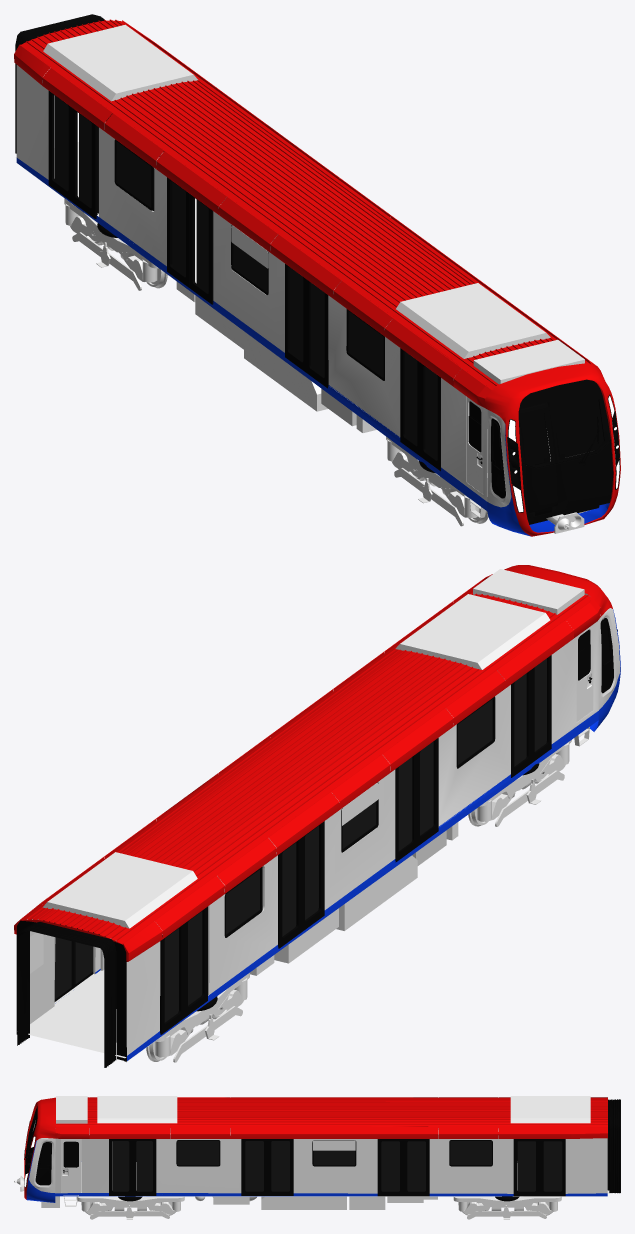
The picture shows the model from 3 angles, top to bottom: view 1: azimuth 30°, elevation 25°; view 2: azimuth 150°, elevation 25°; view 3: azimuth 270°, elevation 25°; orthographic projection. The views are drawn at different scales.
Visible parts, largest first — view 1: OutSide, ROOF, GlassDoor, DverR, KondSalon2, KondSalon1, Steklo, Telega011, Telega, KondKab, Инвертер, DoorKabLOut002 (+4 smaller); view 2: OutSide, ROOF, GlassDoor, DverR, KondSalon2, KondSalon1, Garmoshka, pol, Telega011, Telega, KondKab, Инвертер (+6 smaller); view 3: OutSide, ROOF, GlassDoorL, DverL, GlassOknaL, KondSalon1, KondSalon2, Telega, Telega011, Garmoshka, Инвертер, DoorKabLOut (+9 smaller).
Part boxes in pixels (x1,y1,x2,y2): OutSide: (14,20,620,536); ROOF: (21,19,589,389); GlassDoor: (54,96,437,459); DverR: (48,91,440,471); KondSalon2: (43,24,197,101); KondSalon1: (396,283,550,358); Steklo: (493,399,603,469); Telega011: (64,198,167,290); Telega: (386,436,488,526); KondKab: (473,339,584,384); Инвертер: (244,331,327,411); DoorKabLOut002: (466,397,483,493); OutSide: (14,565,620,1061); ROOF: (21,589,594,944); GlassDoor: (164,658,546,1022); DverR: (160,655,551,1034); KondSalon2: (42,852,197,928); KondSalon1: (395,594,550,669); Garmoshka: (17,922,116,1067); pol: (28,715,471,1058); Telega011: (146,972,249,1062); Telega: (468,740,571,826); KondKab: (473,569,584,614); Инвертер: (336,855,417,930); OutSide: (24,1097,607,1202); ROOF: (56,1097,607,1127); GlassDoorL: (113,1141,562,1191); DverL: (109,1139,565,1196); GlassOknaL: (177,1140,491,1165); KondSalon1: (97,1096,177,1123); KondSalon2: (510,1096,590,1123); Telega: (76,1196,184,1219); Telega011: (453,1196,561,1219); Garmoshka: (607,1099,620,1193); Инвертер: (261,1196,346,1209); DoorKabLOut: (61,1139,81,1192).
Bounding box in the file's own units: 5.22 × 7.07 × 38.82.
